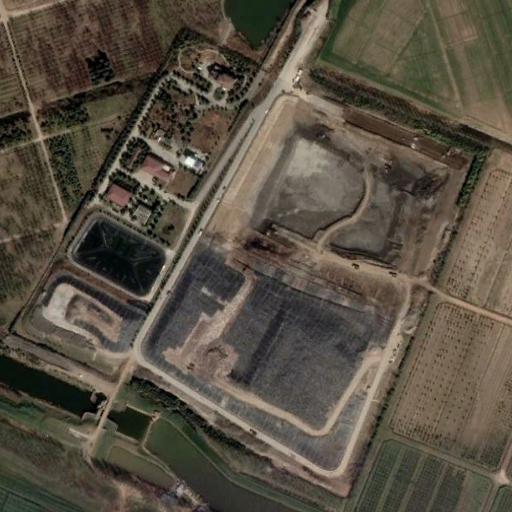lf: (142, 89, 466, 473)
